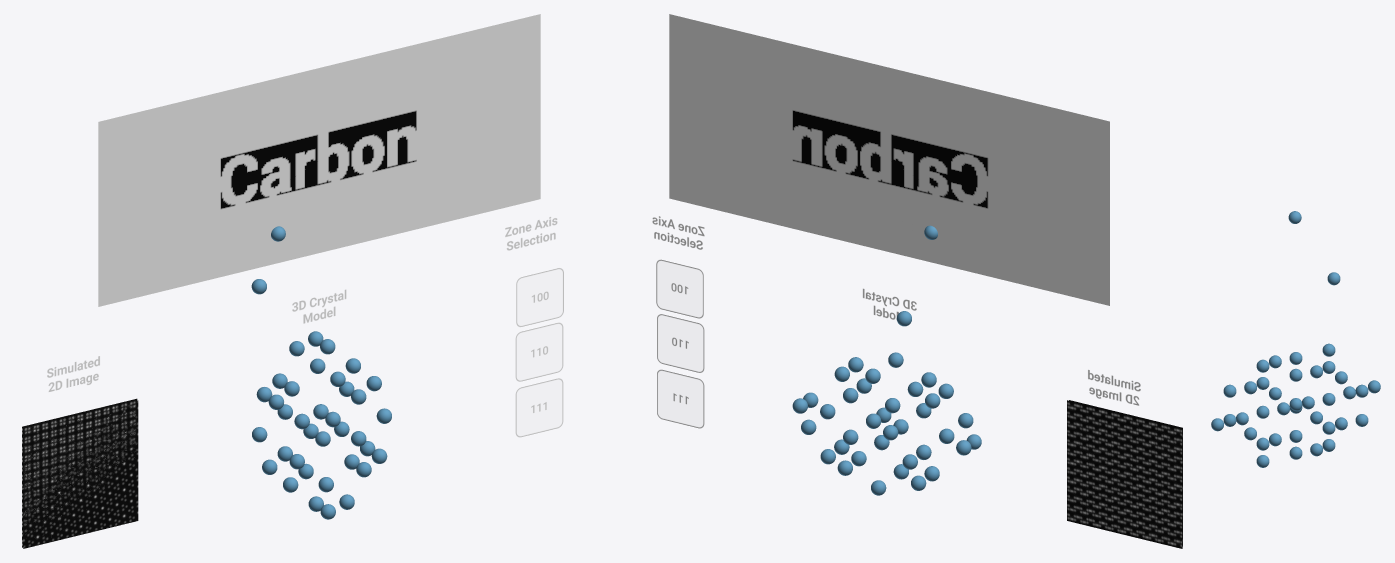
Rendered from Carbon Structure Viewer Rotation 110.glb.
3 views of the same model, side by side, from view 1: azimuth 30°, elevation 25°; view 2: azimuth 150°, elevation 25°; view 3: azimuth 270°, elevation 25° (orthographic). The views are drawn at different scales.
Parts seen in each view (by area): view 1: CarbonTitle, 111_Image, 100_Image; view 2: CarbonTitle, 110_Image; view 3: no part large enough to name.
Part boxes in pixels (x1,y1,x2,y2): CarbonTitle: (98,14,540,306); 111_Image: (23,400,138,548); 100_Image: (23,400,137,546); CarbonTitle: (669,14,1109,305); 110_Image: (1067,400,1182,548).
Bounding box in the file's own units: 1.71 × 1.23 × 0.5278.
13 materials, 11 textured.
